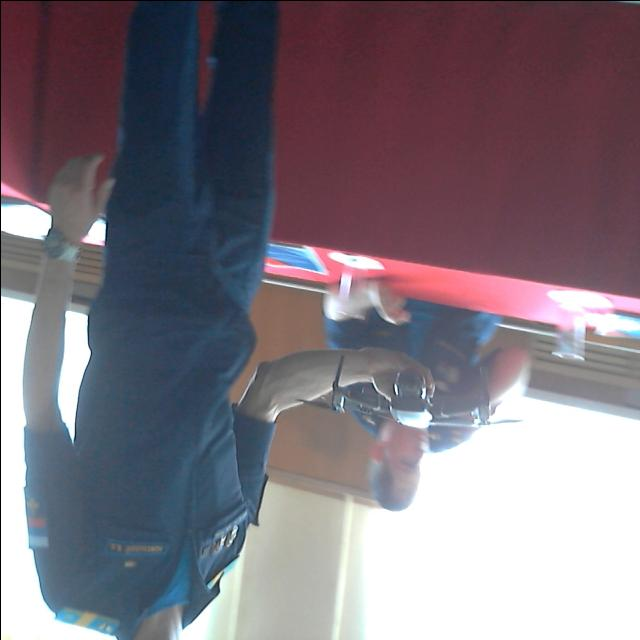drone: (305, 351, 524, 461)
